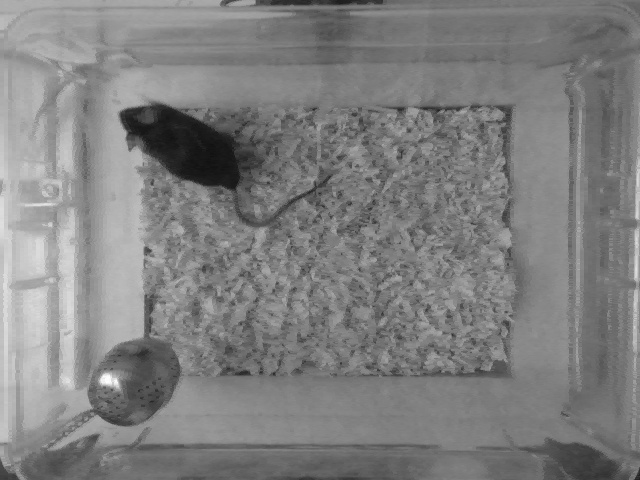mice: (116, 104, 331, 230)
